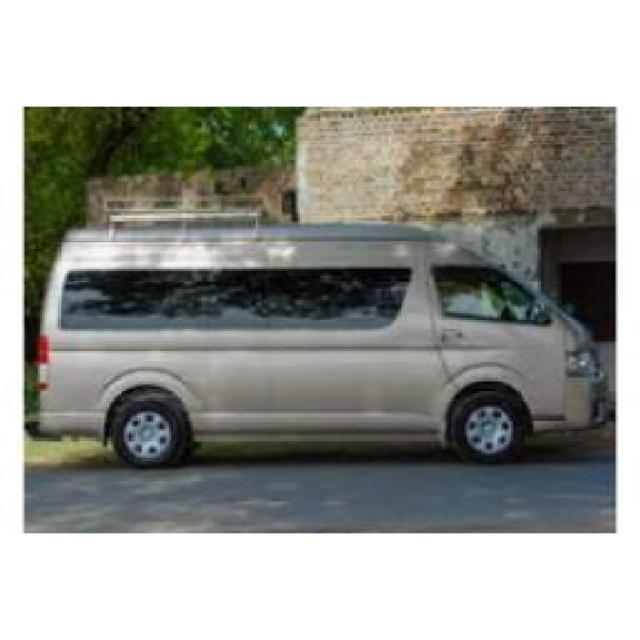Van: (36, 218, 610, 470)
